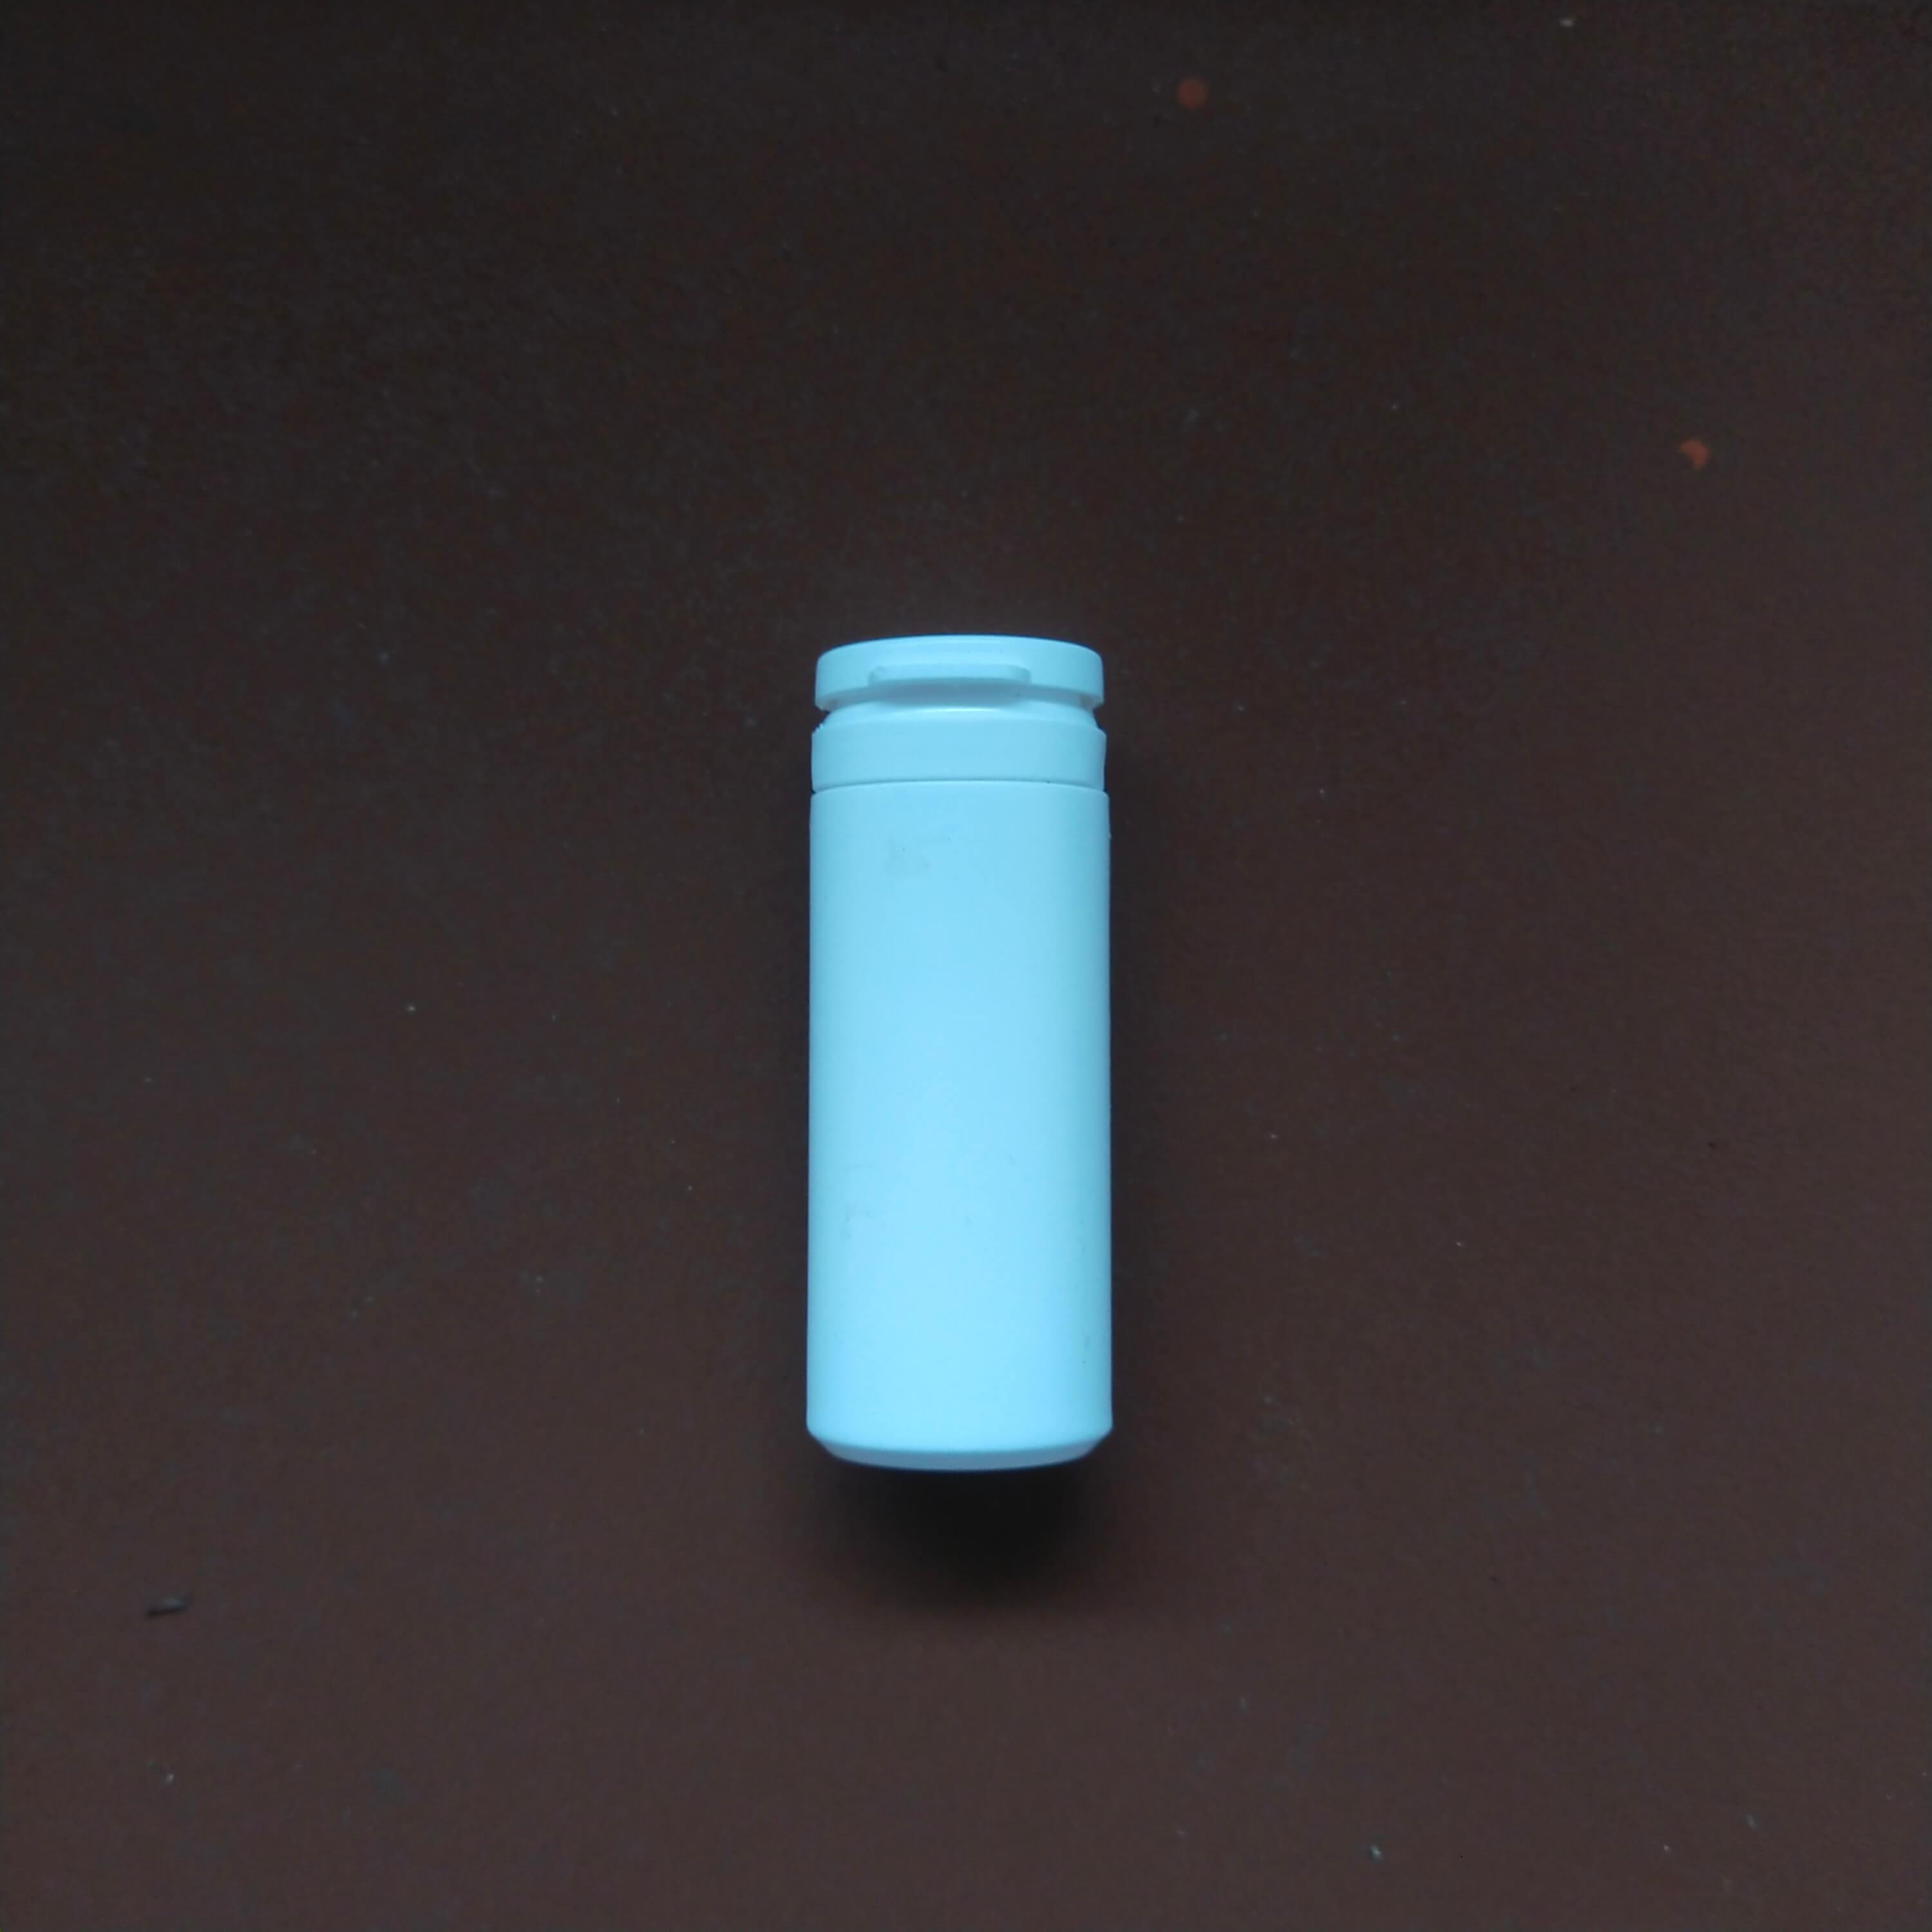plastic box: (796, 603, 1145, 1493)
